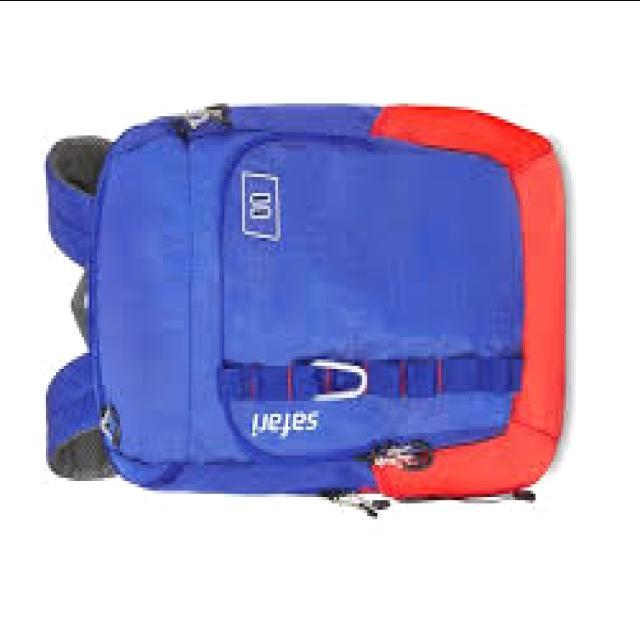backpack: (42, 104, 568, 517)
